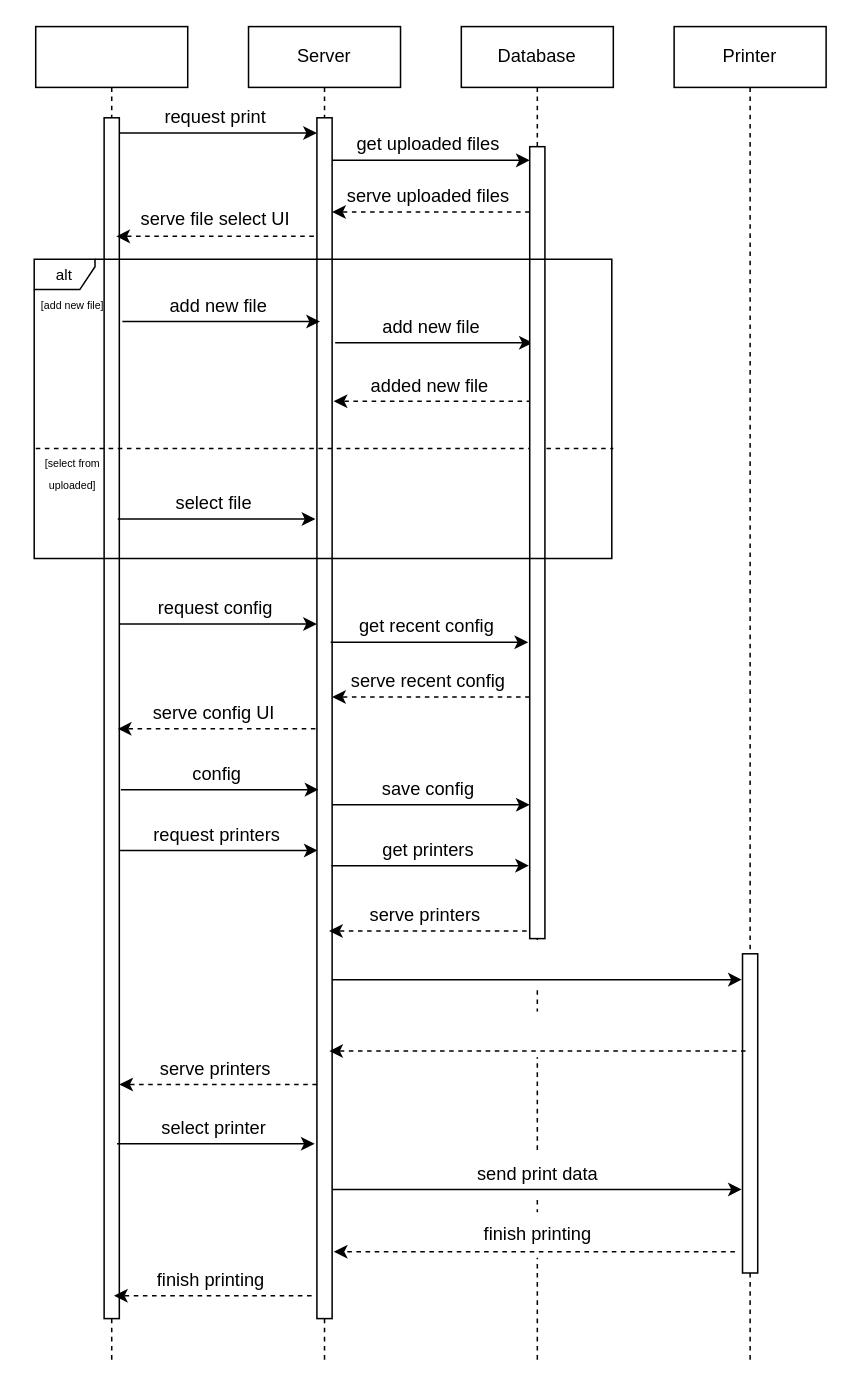
Image size: 853x1391. Some labels were removed from this diagram. Each missing label, with the box of its shape:
Application / UI: (34, 25, 188, 1364)
check printers: (461, 941, 613, 986)
printers availability: (445, 1011, 628, 1056)
